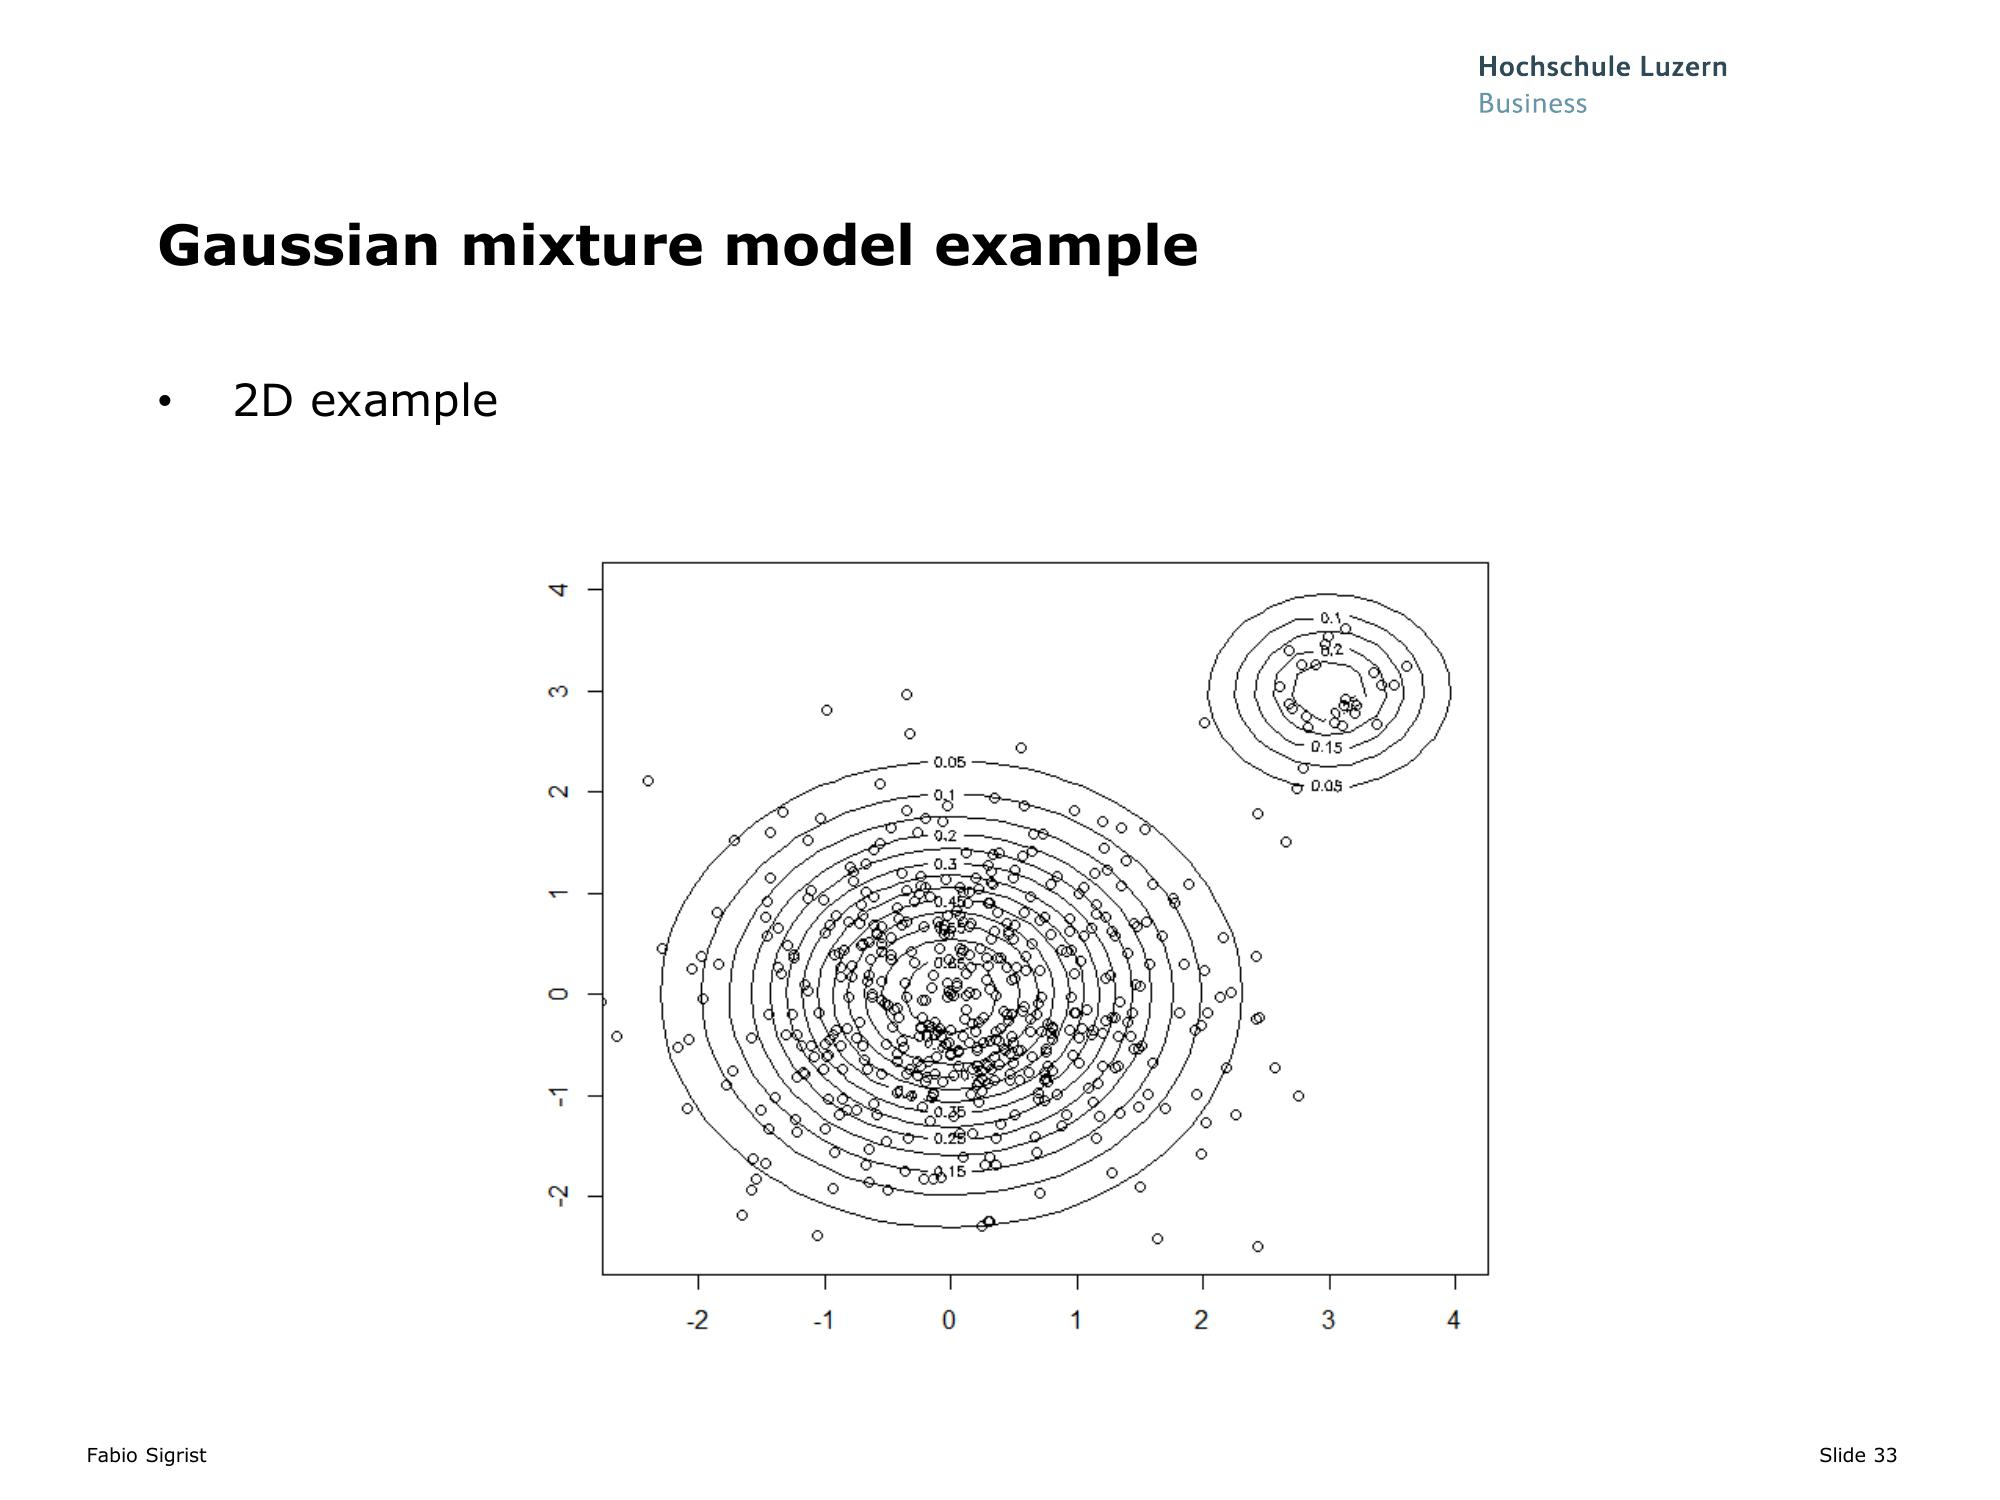Title: (142, 203, 1220, 295)
